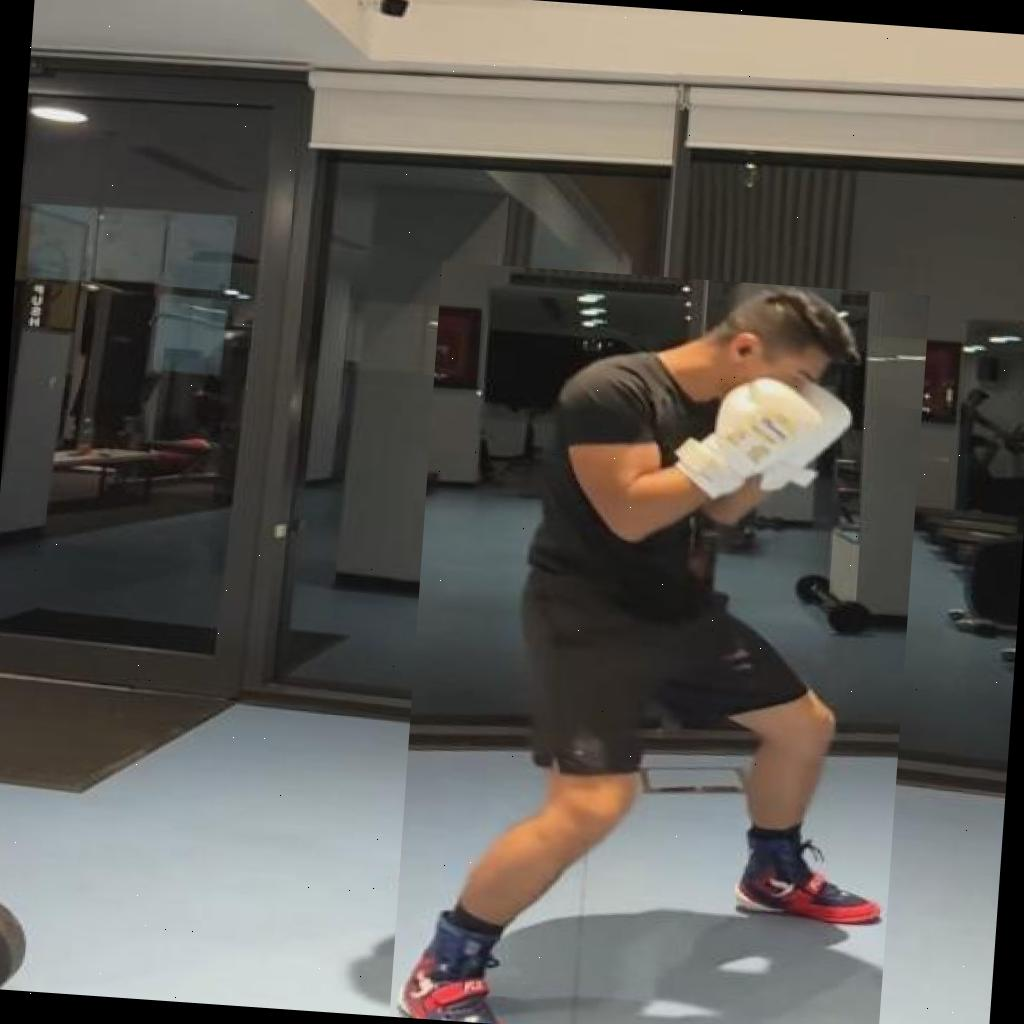no punch: (389, 261, 930, 1024)
